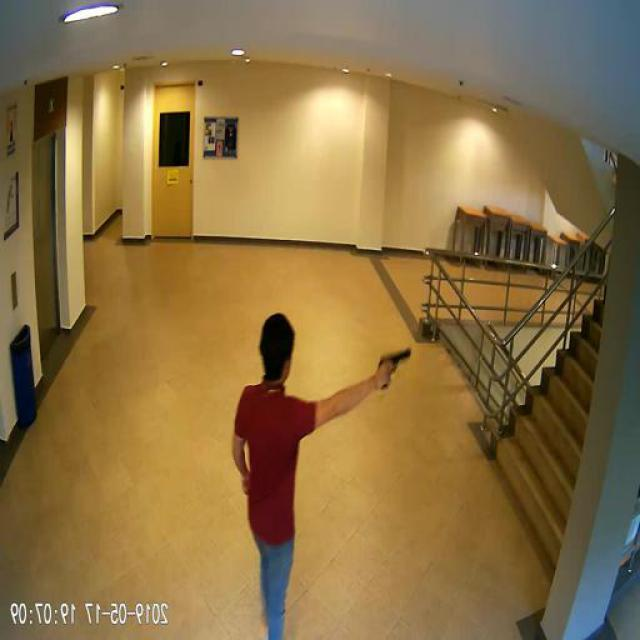Gun: (378, 348, 414, 387)
